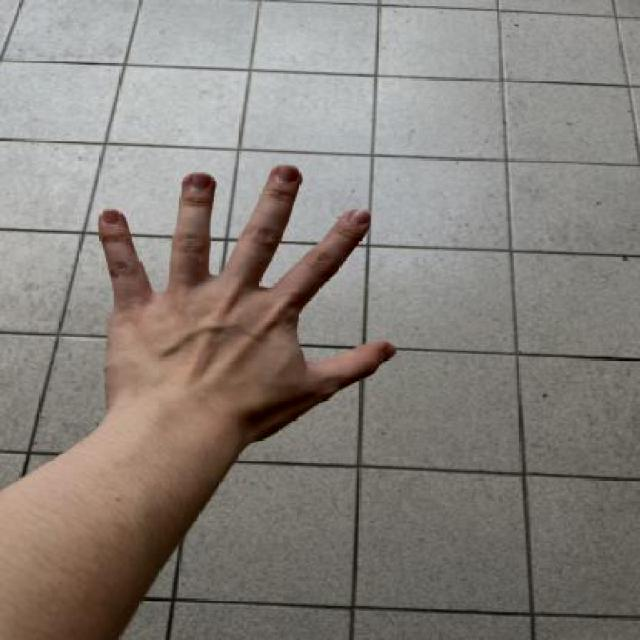no_glove: (75, 146, 420, 460)
